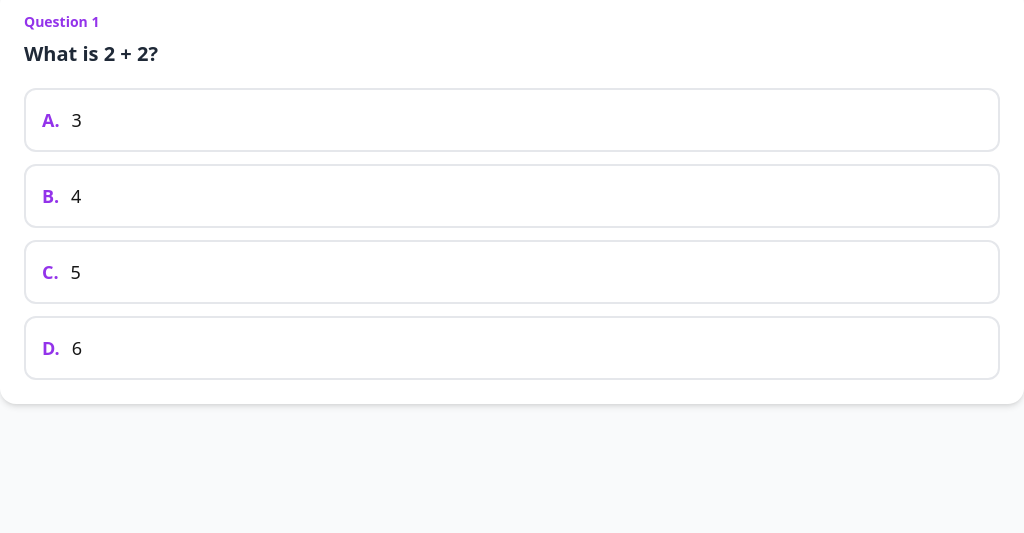
Test: QuizQuestion › shows explanation after answering
Click the button "B.4" at {"x": 48, "y": 196}, box [24,164,1000,228]
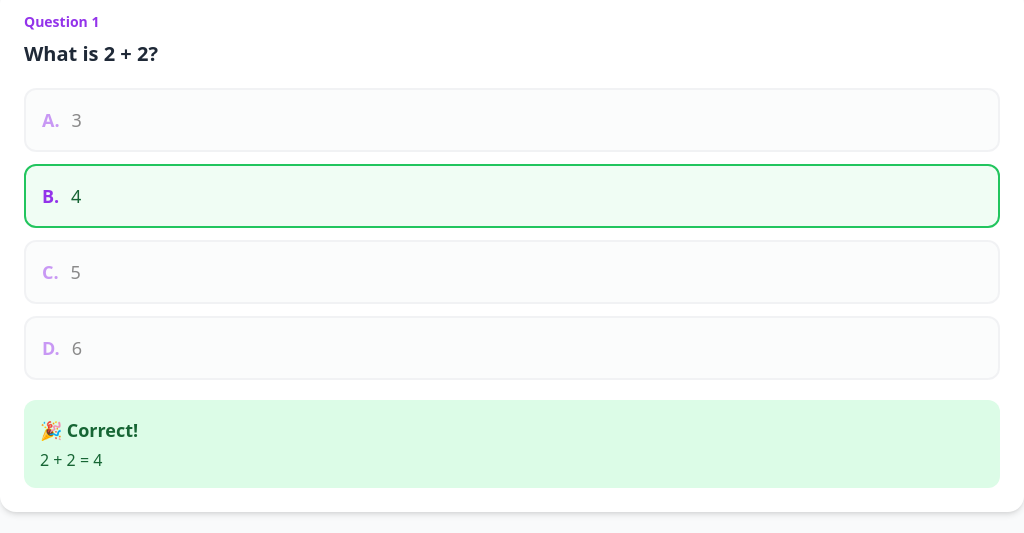
expect the text "2 + 2 = 4" is shown: met, box [40,449,102,471]
